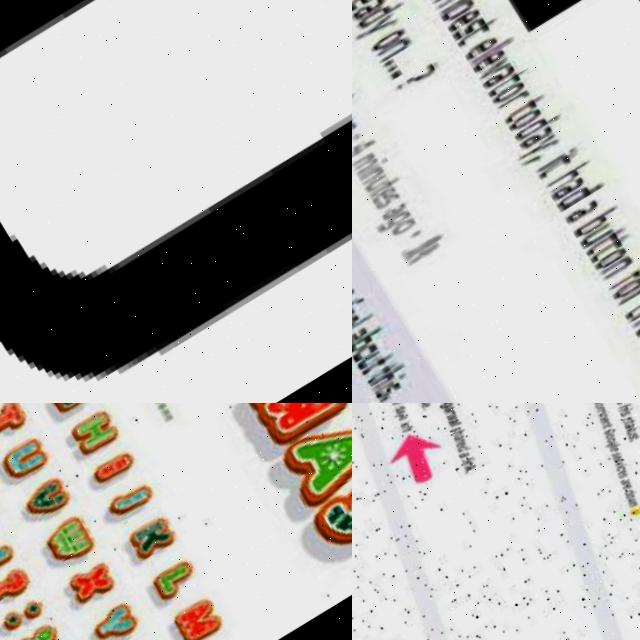1: (0, 536, 20, 580)
4: (352, 129, 380, 159)
A: (566, 189, 606, 221), (482, 56, 519, 86), (518, 118, 555, 147), (552, 169, 589, 198), (352, 0, 391, 21), (380, 195, 412, 219), (352, 320, 372, 345)
B: (573, 198, 625, 237), (437, 0, 489, 22), (352, 321, 388, 352)
D: (512, 102, 563, 140), (556, 172, 604, 208), (355, 0, 403, 29)
E: (462, 29, 500, 59), (471, 42, 508, 72), (445, 2, 483, 31), (370, 179, 398, 203), (352, 0, 381, 11), (352, 309, 361, 332), (352, 300, 360, 325), (352, 115, 358, 139)
F: (608, 254, 640, 291), (352, 289, 367, 316)
G: (375, 203, 414, 233)
H: (547, 153, 594, 189), (370, 357, 410, 388), (629, 289, 640, 325)
I: (538, 140, 579, 169), (355, 151, 391, 176), (373, 368, 409, 393)
L: (470, 30, 515, 62), (352, 307, 376, 334)
M: (352, 147, 380, 173), (432, 0, 472, 11)
N: (374, 31, 412, 60), (601, 248, 638, 277), (358, 161, 386, 184)
O: (370, 21, 409, 52), (490, 73, 527, 103), (507, 100, 544, 130), (593, 239, 631, 268), (612, 267, 640, 296), (388, 210, 419, 236), (352, 336, 382, 361)
R: (498, 82, 533, 109), (617, 277, 640, 304)
S: (452, 9, 489, 38), (373, 186, 403, 209), (376, 375, 405, 398)
T: (452, 9, 503, 47), (501, 85, 549, 123), (485, 60, 532, 96), (538, 143, 584, 176), (585, 219, 629, 253), (590, 227, 634, 261), (367, 169, 405, 197), (360, 347, 397, 375), (367, 356, 400, 382), (622, 281, 640, 317)
U: (0, 0, 352, 403), (579, 216, 616, 245), (363, 168, 392, 192), (358, 345, 386, 369)
V: (476, 50, 514, 80)
Y: (352, 6, 400, 43), (517, 126, 562, 160)
